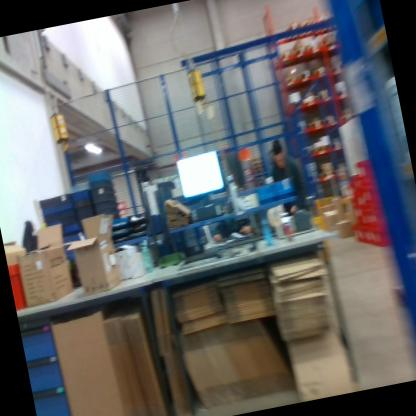pallet: (269, 47, 296, 65), (304, 114, 324, 135), (310, 138, 331, 158), (314, 87, 332, 108), (299, 91, 318, 110), (333, 83, 354, 99), (297, 67, 312, 89), (281, 70, 300, 86), (309, 62, 325, 79), (322, 114, 337, 131), (294, 44, 310, 59), (318, 168, 336, 180)
small_load_carrier: (7, 258, 35, 315), (361, 179, 389, 209), (367, 206, 394, 232), (356, 153, 379, 183), (343, 176, 365, 203), (350, 205, 371, 225), (371, 228, 392, 247), (358, 228, 377, 247), (348, 221, 363, 239)
